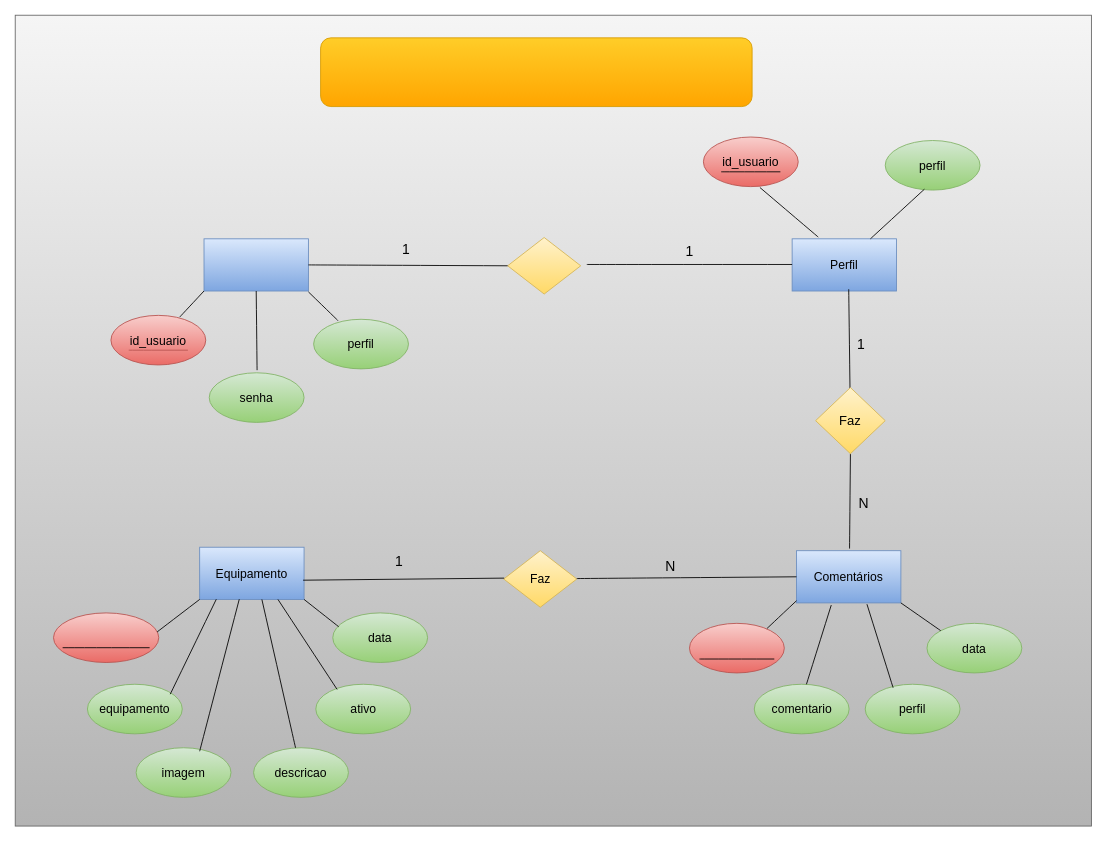
Image size: 1107x841. Some labels were removed from this diagram. Each missing label, with the box of its shape:
DER - Relacionamento e Entidade Sistema Techman: (320, 37, 752, 107)
id_comentario: (689, 622, 784, 673)
id_equipamento: (53, 612, 159, 663)
Possui: (507, 237, 581, 294)
Usuário: (203, 238, 308, 291)
